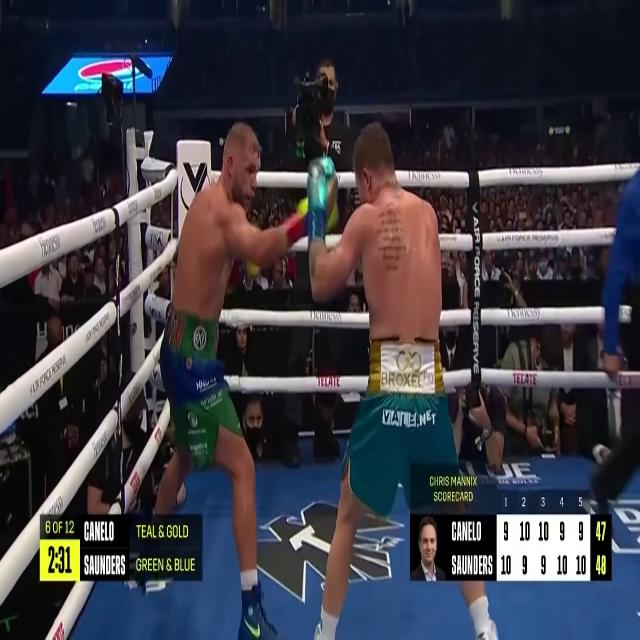boxer_1: (172, 121, 261, 324)
boxer_2: (354, 121, 443, 344)
gloves_1: (284, 196, 338, 243), (235, 231, 263, 281)
gloves_2: (307, 156, 336, 242)
